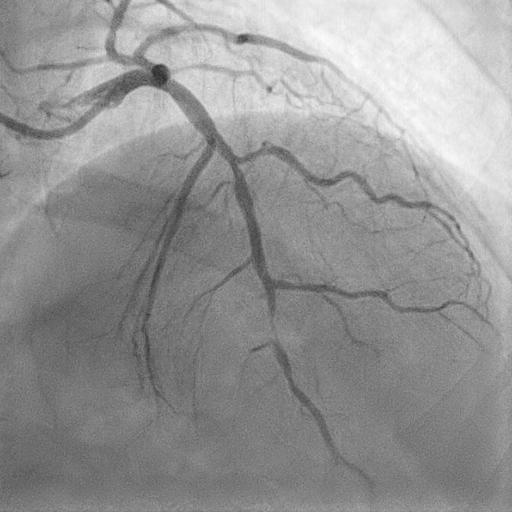block: (246, 289, 305, 363)
